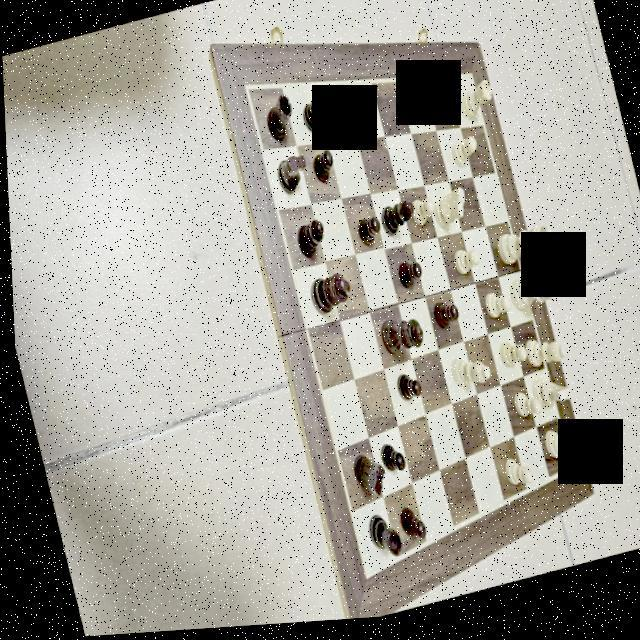chess-table-corners: (354, 568, 367, 590), (240, 84, 252, 102), (464, 75, 476, 92), (560, 468, 570, 485)
